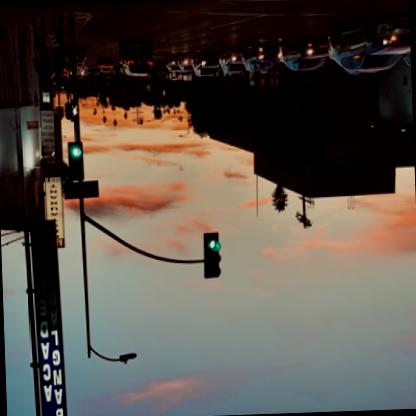trafficlight: (202, 234, 224, 282), (70, 144, 86, 184)
